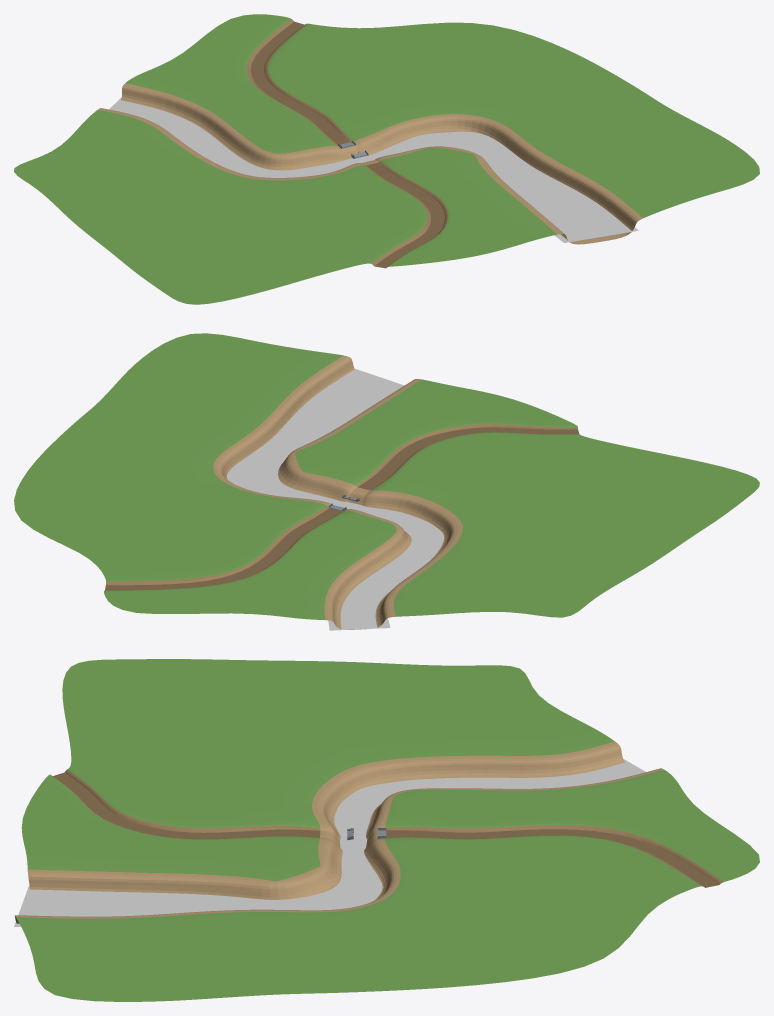
File: SM_Terraine_Level1.fbx
3 views of the same model, one above another, from view 1: azimuth 30°, elevation 25°; view 2: azimuth 150°, elevation 25°; view 3: azimuth 270°, elevation 25° (orthographic). The views are drawn at different scales.
Visible parts, largest first — view 1: SM_Terraine_Level1, SM_Terraine_Level1_Water; view 2: SM_Terraine_Level1, SM_Terraine_Level1_Water; view 3: SM_Terraine_Level1, SM_Terraine_Level1_Water.
Part boxes in pixels (x1,y1,x2,y2): SM_Terraine_Level1: (14, 14, 759, 304); SM_Terraine_Level1_Water: (109, 97, 638, 242); SM_Terraine_Level1: (14, 333, 759, 629); SM_Terraine_Level1_Water: (227, 369, 444, 630); SM_Terraine_Level1: (14, 659, 759, 1001); SM_Terraine_Level1_Water: (14, 759, 645, 926).
Size of what is drawn, in the model's own units: 47279 by 43470 by 1303.
